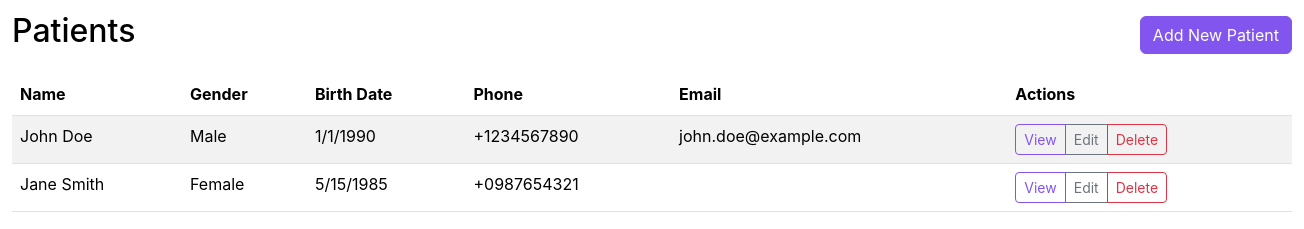
PatientList Component › handles delete error gracefully
Expected: the text "John Doe" is shown, [12,116,182,164]
What coordinates should you click on to do the following:
click the button "Delete" in the row of "John Doe"
I would click on:
 (1137, 140)
Its box is [1107,124,1167,155].
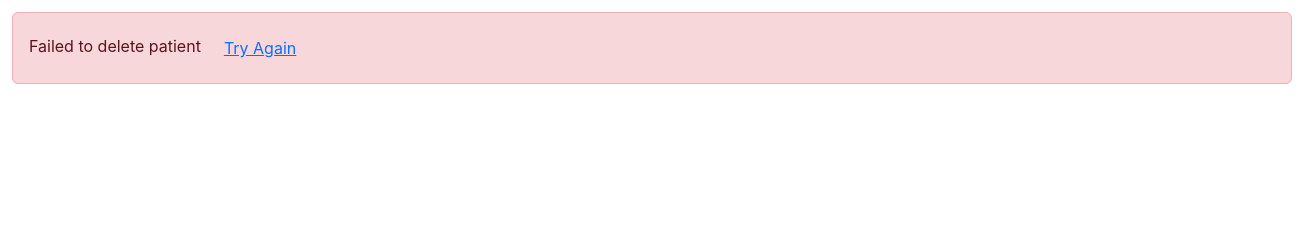
Now the text "Failed to delete patient Try Again" is shown, box [12,12,1292,84]
